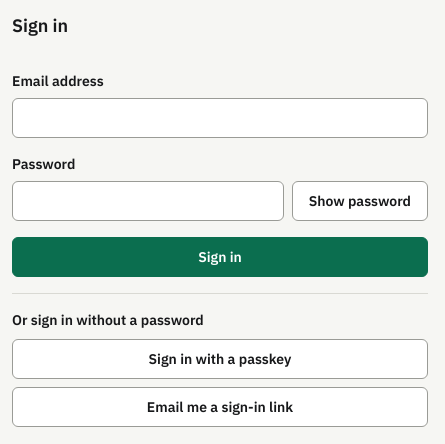
MfaSignIn › uses the autocomplete tokens password managers look for and never blocks paste
Click the password field labelled "Password" at (148,201), box left=12, top=181, right=284, bottom=221
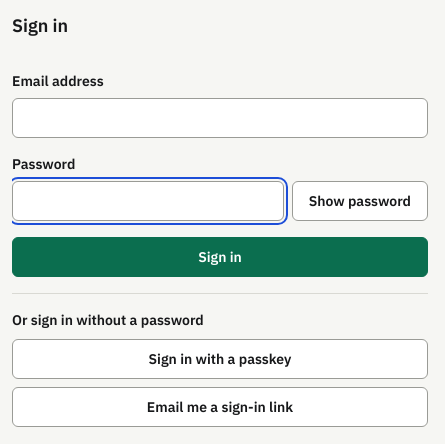
Type keys "correct horse battery"
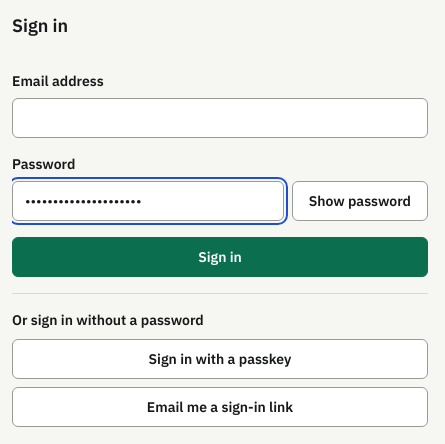
expect the password field labelled "Password" holds "correct horse battery": met, box left=12, top=181, right=284, bottom=221
